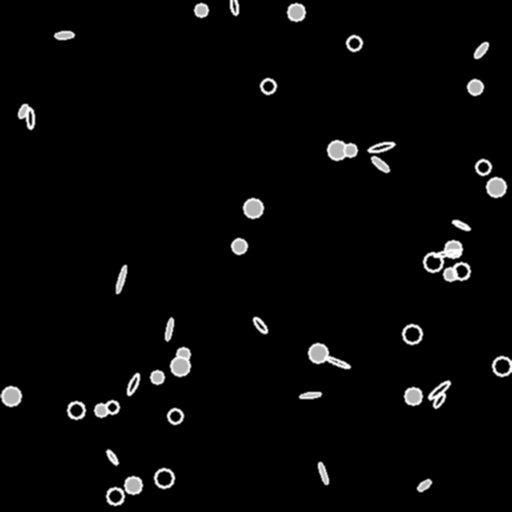pseudomonas: (427, 379, 451, 401), (114, 264, 128, 294), (367, 140, 395, 154), (125, 372, 141, 396), (324, 355, 350, 369), (370, 155, 390, 173), (252, 316, 268, 334), (473, 41, 489, 59), (317, 461, 329, 485), (434, 248, 460, 258), (105, 448, 119, 466), (451, 219, 471, 231), (432, 392, 446, 408), (416, 478, 432, 492), (164, 318, 174, 340), (17, 103, 29, 119), (26, 107, 34, 129), (300, 391, 320, 399), (55, 31, 73, 39), (229, 0, 239, 14)
synechocystis: (403, 325, 421, 343), (328, 141, 346, 159), (244, 199, 262, 217), (171, 357, 189, 375), (493, 357, 511, 375), (155, 469, 173, 487), (2, 387, 20, 405), (424, 253, 442, 271), (309, 344, 327, 362), (487, 178, 505, 196), (405, 388, 421, 404), (288, 4, 304, 20), (453, 263, 469, 279), (125, 477, 141, 493), (445, 241, 461, 257), (107, 488, 123, 504), (68, 402, 84, 418), (468, 80, 482, 94), (476, 160, 490, 174), (261, 79, 275, 93), (168, 409, 182, 423), (347, 36, 361, 50), (232, 239, 246, 253), (177, 348, 189, 360), (444, 268, 456, 280), (151, 371, 163, 383), (95, 404, 107, 416), (344, 144, 356, 156), (195, 4, 207, 16), (106, 401, 118, 413)
